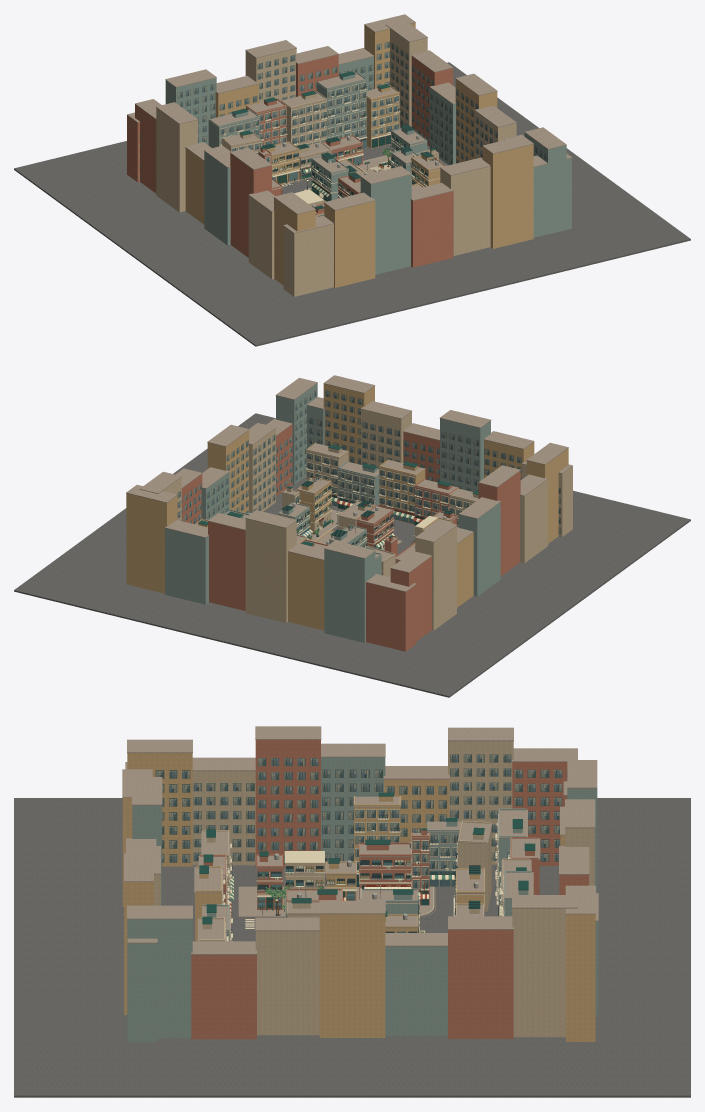
The model's file is district.glb.
3 views of the same model, one above another, from view 1: azimuth 30°, elevation 25°; view 2: azimuth 150°, elevation 25°; view 3: azimuth 270°, elevation 25° (orthographic). The views are drawn at different scales.
Parts seen in each view (by area): view 1: surround-ground | surround-ground, Far blocks 1-1 | Far blocks 1-1, Far blocks 1-4 | Far blocks 1-4, Far blocks 1-5 | Far blocks 1-5, Far blocks 1-2 | Far blocks 1-2, Far blocks 1-6 | Far blocks 1-6, Far blocks 2-5 | Far blocks 2-5, Far blocks 1-3 | Far blocks 1-3, Far blocks 2-2 | Far blocks 2-2, North layered roof 3 | North layered roof 3, Far blocks 0-3 | Far blocks 0-3, Far blocks 2-3 | Far blocks 2-3 (+23 smaller); view 2: surround-ground | surround-ground, Far blocks 0-3 | Far blocks 0-3, Far blocks 0-6 | Far blocks 0-6, Far blocks 0-1 | Far blocks 0-1, Far blocks 0-0 | Far blocks 0-0, Far blocks 0-4 | Far blocks 0-4, Far blocks 0-5 | Far blocks 0-5, Far blocks 1-4 | Far blocks 1-4, Far blocks 1-1 | Far blocks 1-1, Far blocks 0-2 | Far blocks 0-2, Far blocks 2-5 | Far blocks 2-5, Far blocks 2-3 | Far blocks 2-3 (+23 smaller); view 3: surround-ground | surround-ground, Far blocks 3-3 | Far blocks 3-3, Far blocks 2-2 | Far blocks 2-2, Far blocks 3-1 | Far blocks 3-1, Far blocks 3-0 | Far blocks 3-0, Far blocks 3-4 | Far blocks 3-4, Far blocks 3-5 | Far blocks 3-5, Far blocks 3-2 | Far blocks 3-2, Far blocks 2-5 | Far blocks 2-5, Far blocks 2-1 | Far blocks 2-1, Far blocks 3-6 | Far blocks 3-6, Far blocks 2-3 | Far blocks 2-3 (+32 smaller).
Part boxes in pixels (left/top/right/bottom): surround-ground | surround-ground: left=14, top=62, right=690, bottom=346; Far blocks 1-1 | Far blocks 1-1: left=482, top=135, right=533, bottom=248; Far blocks 1-4 | Far blocks 1-4: left=360, top=166, right=411, bottom=274; Far blocks 1-5 | Far blocks 1-5: left=324, top=192, right=375, bottom=287; Far blocks 1-2 | Far blocks 1-2: left=440, top=157, right=490, bottom=255; Far blocks 1-6 | Far blocks 1-6: left=283, top=215, right=333, bottom=296; Far blocks 2-5 | Far blocks 2-5: left=156, top=102, right=198, bottom=212; Far blocks 1-3 | Far blocks 1-3: left=411, top=183, right=453, bottom=267; Far blocks 2-2 | Far blocks 2-2: left=230, top=147, right=272, bottom=257; North layered roof 3 | North layered roof 3: left=316, top=71, right=367, bottom=147; Far blocks 0-3 | Far blocks 0-3: left=245, top=40, right=296, bottom=102; Far blocks 2-3 | Far blocks 2-3: left=204, top=145, right=230, bottom=245; surround-ground | surround-ground: left=14, top=413, right=690, bottom=697; Far blocks 0-3 | Far blocks 0-3: left=245, top=510, right=296, bottom=622; Far blocks 0-6 | Far blocks 0-6: left=126, top=484, right=177, bottom=593; Far blocks 0-1 | Far blocks 0-1: left=324, top=540, right=375, bottom=642; Far blocks 0-0 | Far blocks 0-0: left=366, top=574, right=416, bottom=651; Far blocks 0-4 | Far blocks 0-4: left=208, top=513, right=245, bottom=610; Far blocks 0-5 | Far blocks 0-5: left=165, top=520, right=208, bottom=604; Far blocks 1-4 | Far blocks 1-4: left=440, top=410, right=491, bottom=491; Far blocks 1-1 | Far blocks 1-1: left=323, top=375, right=375, bottom=464; Far blocks 0-2 | Far blocks 0-2: left=288, top=543, right=324, bottom=630; Far blocks 2-5 | Far blocks 2-5: left=415, top=520, right=457, bottom=630; Far blocks 2-3 | Far blocks 2-3: left=458, top=497, right=500, bottom=596; surround-ground | surround-ground: left=14, top=798, right=690, bottom=1097; Far blocks 3-3 | Far blocks 3-3: left=319, top=900, right=385, bottom=1037; Far blocks 2-2 | Far blocks 2-2: left=255, top=726, right=321, bottom=868; Far blocks 3-1 | Far blocks 3-1: left=448, top=916, right=513, bottom=1038; Far blocks 3-0 | Far blocks 3-0: left=512, top=895, right=577, bottom=1037; Far blocks 3-4 | Far blocks 3-4: left=255, top=917, right=319, bottom=1035; Far blocks 3-5 | Far blocks 3-5: left=191, top=941, right=256, bottom=1039; Far blocks 3-2 | Far blocks 3-2: left=385, top=933, right=447, bottom=1035; Far blocks 2-5 | Far blocks 2-5: left=448, top=727, right=513, bottom=864; Far blocks 2-1 | Far blocks 2-1: left=192, top=757, right=255, bottom=865; Far blocks 3-6 | Far blocks 3-6: left=127, top=905, right=192, bottom=1038; Far blocks 2-3 | Far blocks 2-3: left=321, top=743, right=385, bottom=865.
Bounding box in the file's own units: 130 × 28.98 × 125.
67 materials, 45 textured.
